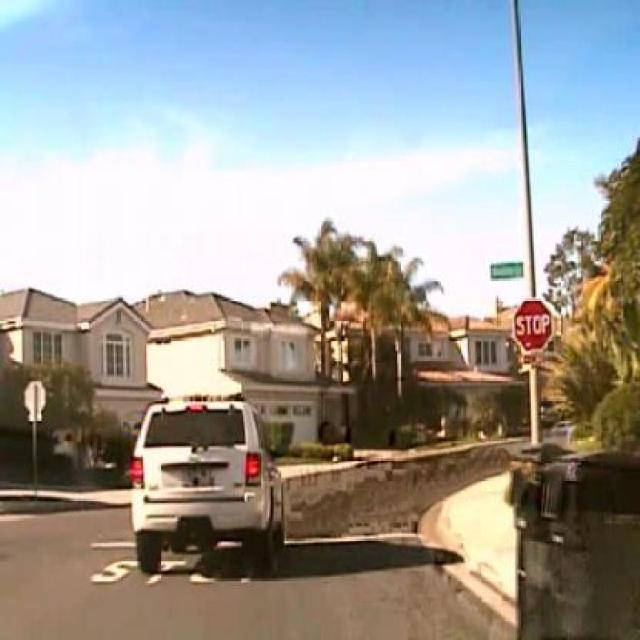stop: (512, 300, 554, 352)
